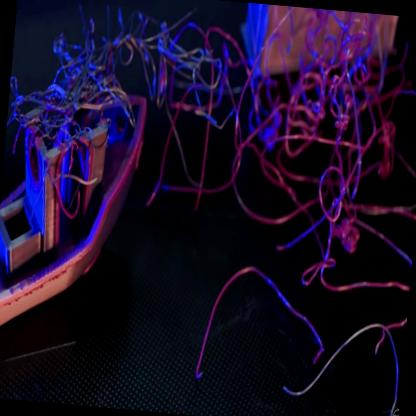fail: (226, 64, 416, 363), (69, 3, 249, 115)
